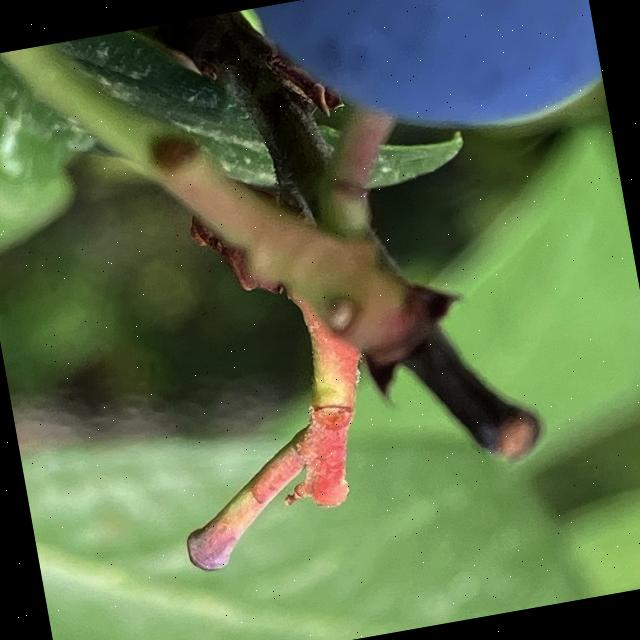Blueberries: (237, 0, 608, 174)
